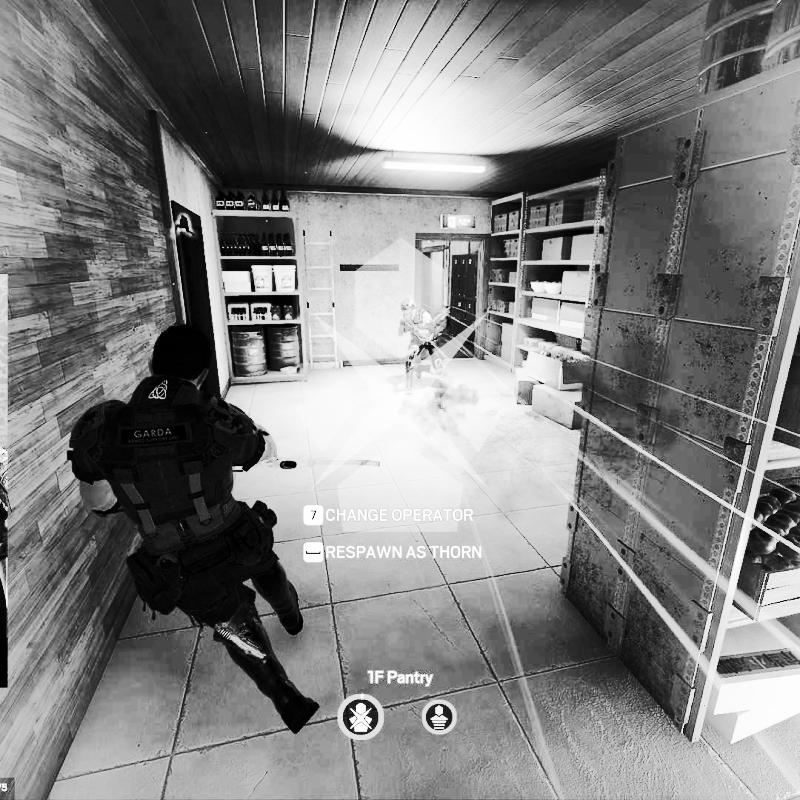Character: (64, 312, 318, 742), (397, 295, 444, 396)
Head: (150, 322, 218, 397), (399, 296, 416, 316)
